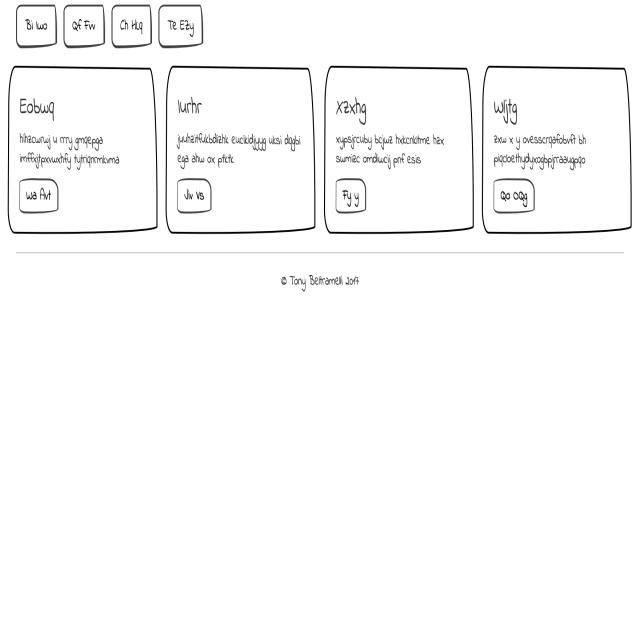Button: (21, 177, 59, 215), (493, 178, 535, 212), (333, 175, 366, 214), (178, 179, 214, 214)
Card: (481, 59, 633, 234), (324, 63, 474, 234), (164, 62, 315, 230), (9, 61, 157, 232)
Footer: (0, 254, 640, 640)
Heading 6: (15, 94, 58, 122), (334, 96, 369, 126), (175, 96, 203, 121), (493, 98, 518, 126)
Navigation Bar: (16, 2, 204, 50)
Paragraph: (175, 128, 303, 168), (18, 130, 123, 172), (334, 132, 447, 171), (490, 130, 588, 172)
